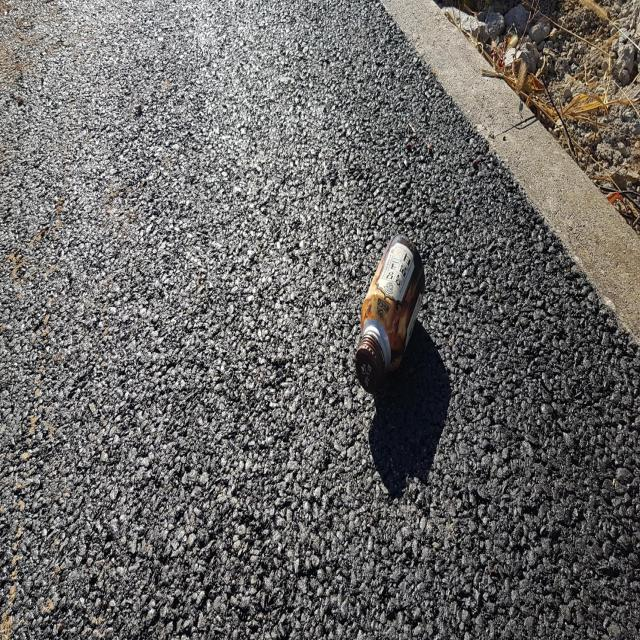can: (356, 233, 425, 392)
